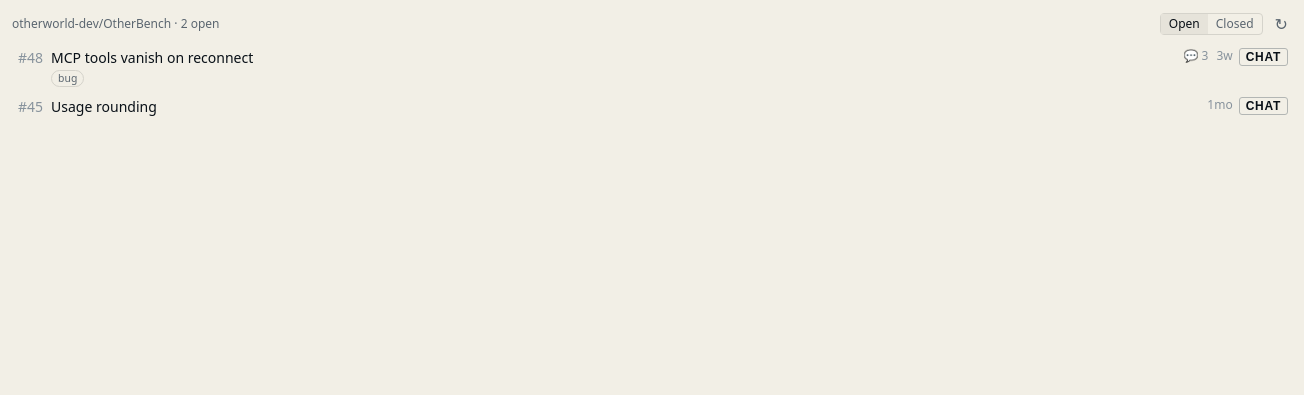
Scenario: IssuesTab › a click shows the body as markdown, the comments, and a link to GitHub through the default browser
Click the button with test id "issue-row-48": point(152, 58) [12,44,1239,91]
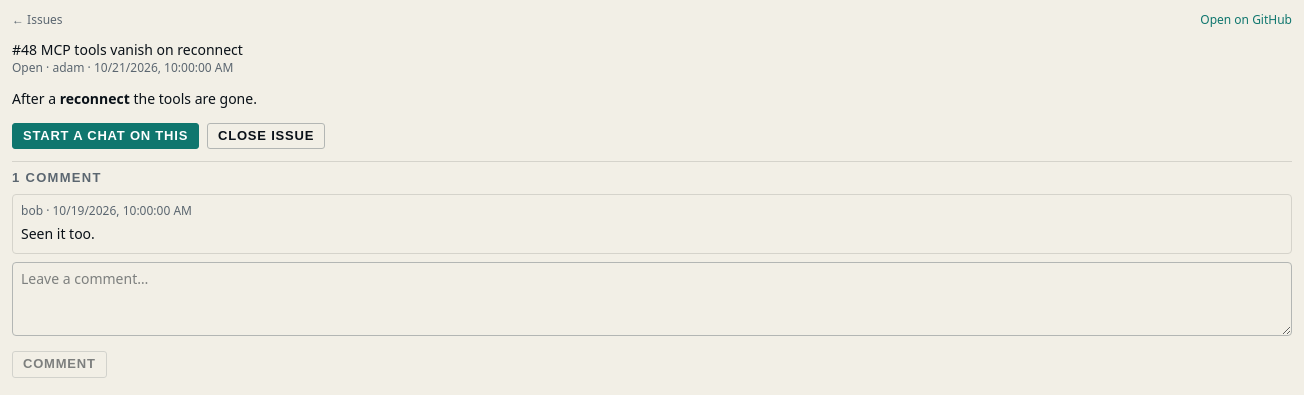
expect the heading "#48 MCP tools vanish on reconnect" is shown: met, box [12,40,243,59]
expect the text "Seen it too." is shown: met, box [21,224,95,243]
Click the link "Open on GitHub": point(1246, 20) [1200,12,1292,28]
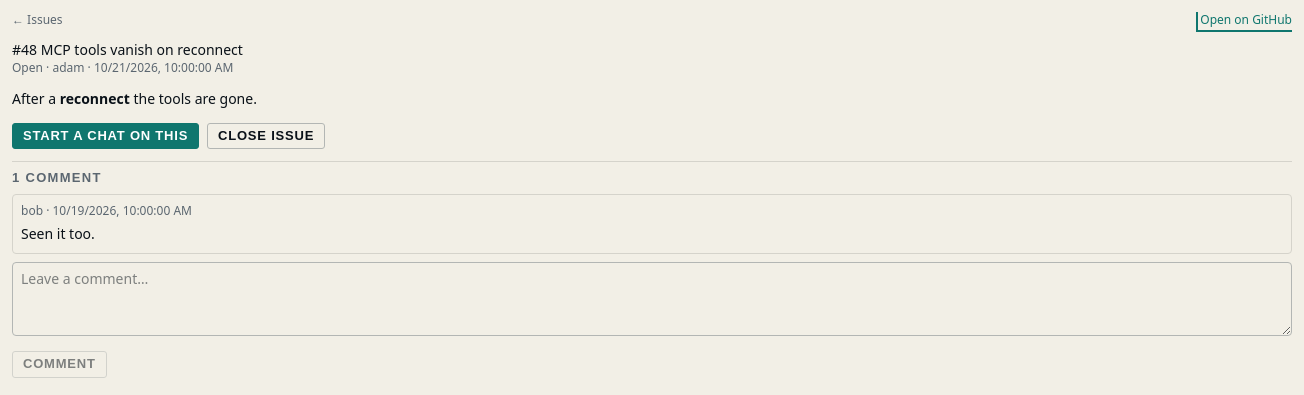
Click the button with aria-label "Back to issues": point(37, 20) [12,12,63,28]
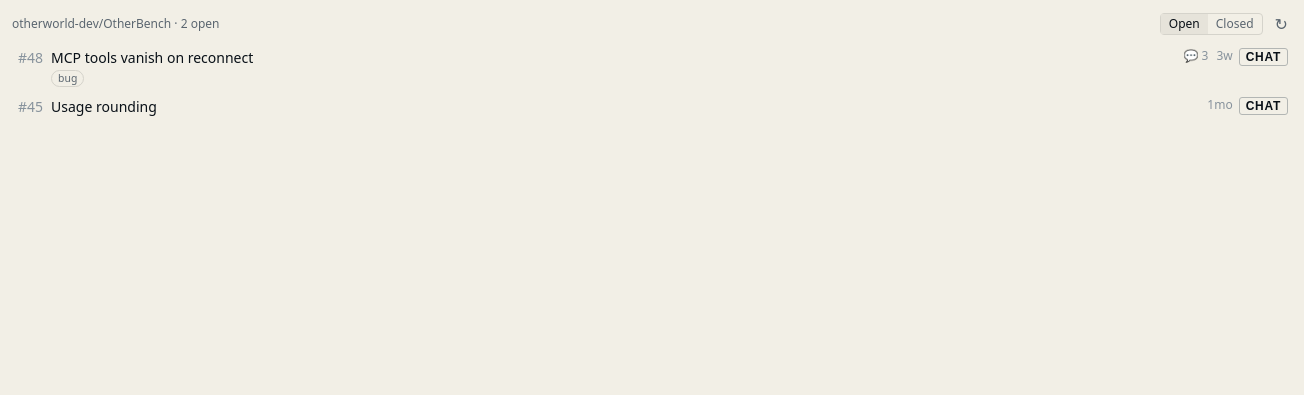
expect the button with test id "issue-row-48" is shown: met, box [12,44,1239,91]
